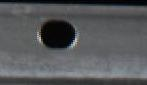holes: (37, 17, 77, 49)
